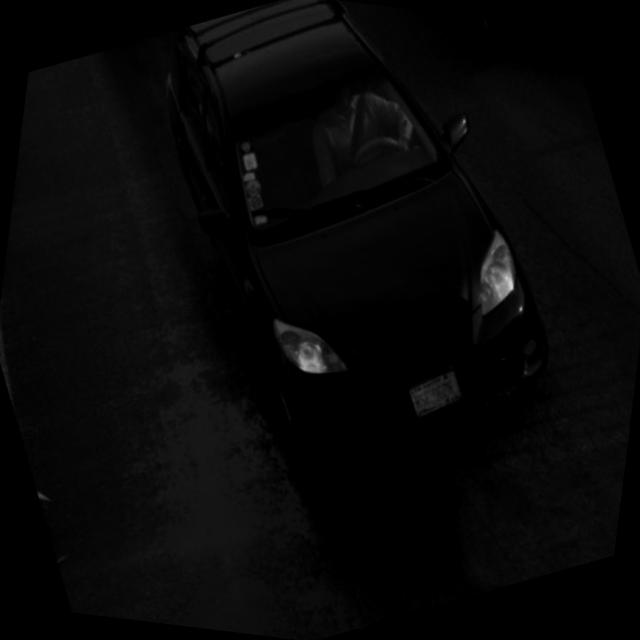person_with_seatbelt: (305, 73, 432, 218)
